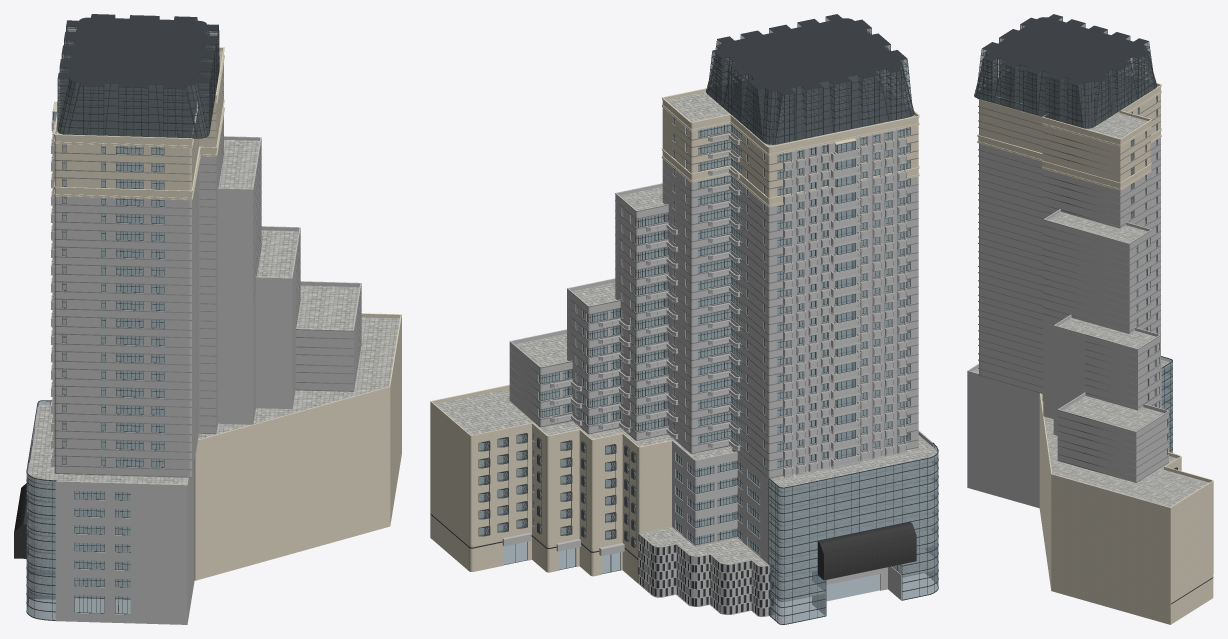
The model's file is gzl_suiyuandasha_02.FBX.
3 views of the same model, side by side, from view 1: azimuth 30°, elevation 25°; view 2: azimuth 150°, elevation 25°; view 3: azimuth 270°, elevation 25° (orthographic). The views are drawn at different scales.
Parts seen in each view (by area): view 1: gzl_suiyuandasha_05, gzl_suiyuandasha_09, gzl_suiyuandasha_10, gzl_suiyuandasha_08, gzl_suiyuandasha_11, gzl_suiyuandasha_06, gzl_suiyuandasha_12, gzl_suiyuandasha_04, gzl_suiyuandasha_14, gzl_suiyuandasha_01, gzl_suiyuandasha_02; view 2: gzl_suiyuandasha_05, gzl_suiyuandasha_11, gzl_suiyuandasha_10, gzl_suiyuandasha_01, gzl_suiyuandasha_09, gzl_suiyuandasha_14, gzl_suiyuandasha_08, gzl_suiyuandasha_06, gzl_suiyuandasha_04, gzl_suiyuandasha_03, gzl_suiyuandasha_12, gzl_suiyuandasha_02 (+1 smaller); view 3: gzl_suiyuandasha_05, gzl_suiyuandasha_09, gzl_suiyuandasha_08, gzl_suiyuandasha_12, gzl_suiyuandasha_06, gzl_suiyuandasha_10, gzl_suiyuandasha_04, gzl_suiyuandasha_11, gzl_suiyuandasha_14.
Boxes of the visible parts, x1,y1,x2,y2 form: gzl_suiyuandasha_05: (29, 116, 361, 624); gzl_suiyuandasha_09: (194, 313, 401, 580); gzl_suiyuandasha_10: (27, 50, 399, 599); gzl_suiyuandasha_08: (52, 14, 219, 138); gzl_suiyuandasha_11: (26, 112, 163, 620); gzl_suiyuandasha_06: (54, 66, 361, 477); gzl_suiyuandasha_12: (53, 47, 224, 200); gzl_suiyuandasha_04: (57, 19, 219, 137); gzl_suiyuandasha_14: (26, 144, 164, 620); gzl_suiyuandasha_01: (50, 94, 59, 466); gzl_suiyuandasha_02: (14, 483, 26, 558); gzl_suiyuandasha_05: (509, 130, 933, 615); gzl_suiyuandasha_11: (479, 117, 937, 624); gzl_suiyuandasha_10: (435, 91, 937, 601); gzl_suiyuandasha_01: (502, 127, 907, 616); gzl_suiyuandasha_09: (430, 385, 671, 582); gzl_suiyuandasha_14: (430, 116, 938, 624); gzl_suiyuandasha_08: (539, 14, 914, 459); gzl_suiyuandasha_06: (509, 115, 918, 478); gzl_suiyuandasha_04: (706, 17, 913, 143); gzl_suiyuandasha_03: (555, 135, 904, 474); gzl_suiyuandasha_12: (661, 88, 919, 207); gzl_suiyuandasha_02: (818, 522, 916, 580); gzl_suiyuandasha_05: (967, 137, 1168, 508); gzl_suiyuandasha_09: (1039, 393, 1213, 624); gzl_suiyuandasha_08: (974, 14, 1168, 455); gzl_suiyuandasha_12: (977, 78, 1161, 190); gzl_suiyuandasha_06: (978, 100, 1168, 482); gzl_suiyuandasha_10: (972, 86, 1208, 507); gzl_suiyuandasha_04: (975, 17, 1156, 127); gzl_suiyuandasha_11: (1130, 96, 1172, 454); gzl_suiyuandasha_14: (1130, 96, 1213, 604).
Bounding box in the file's own units: 79976 × 90680 × 45839.
